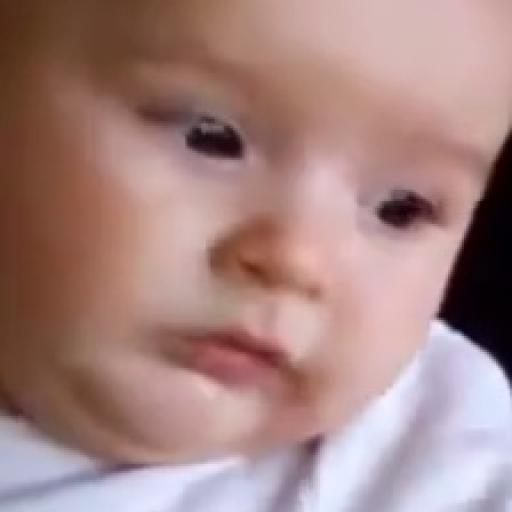Autism: (12, 8, 483, 450)
